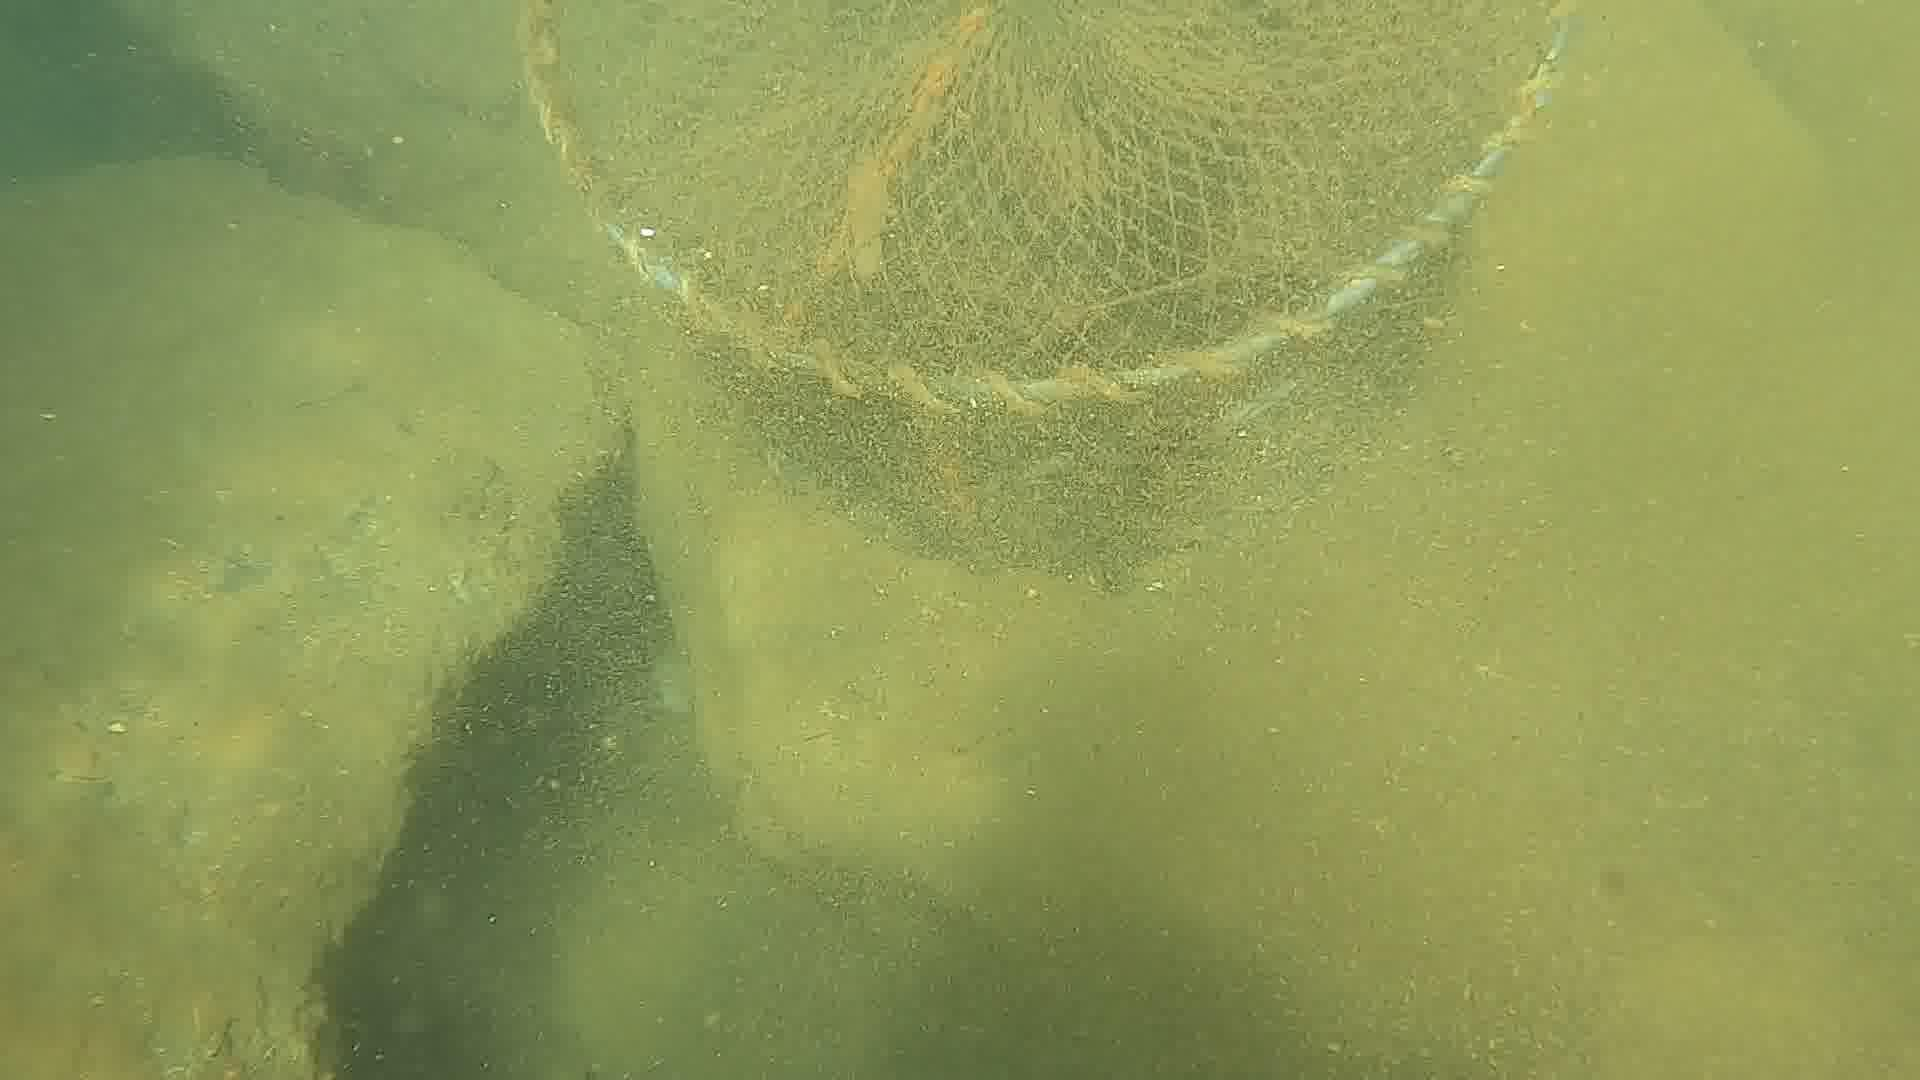circular fish trap: (506, 0, 1575, 568)
